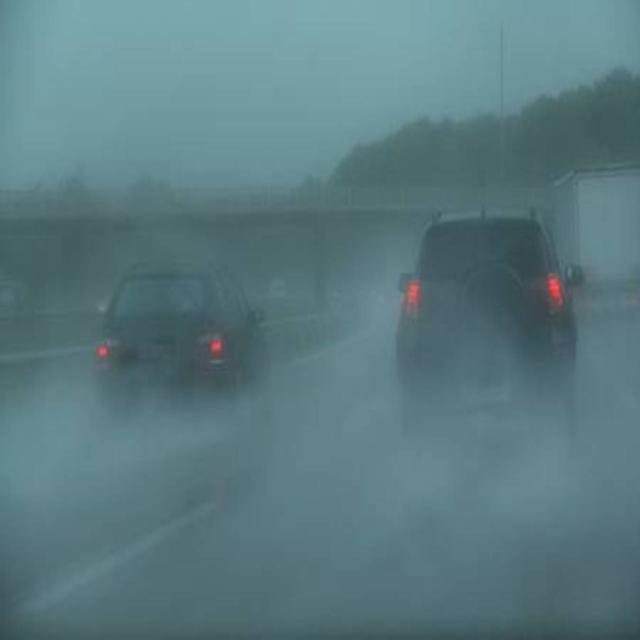bus: (553, 166, 637, 354)
car: (402, 215, 574, 374), (83, 270, 261, 408)
